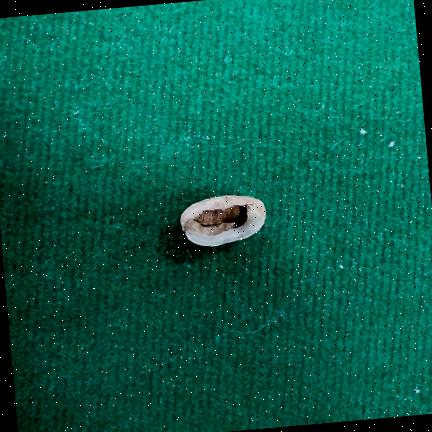shell: (180, 195, 266, 247)
